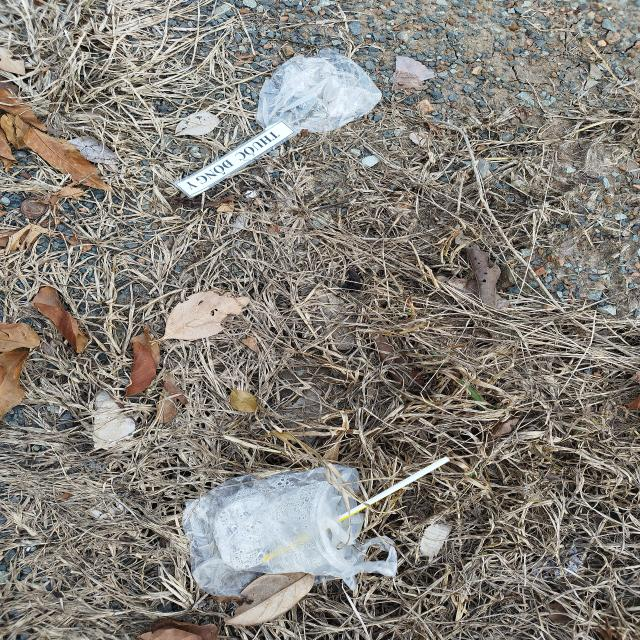bag: (255, 48, 383, 133)
drinking straw: (339, 456, 450, 522)
paper: (172, 118, 300, 198)
trash bag: (182, 464, 398, 598)
